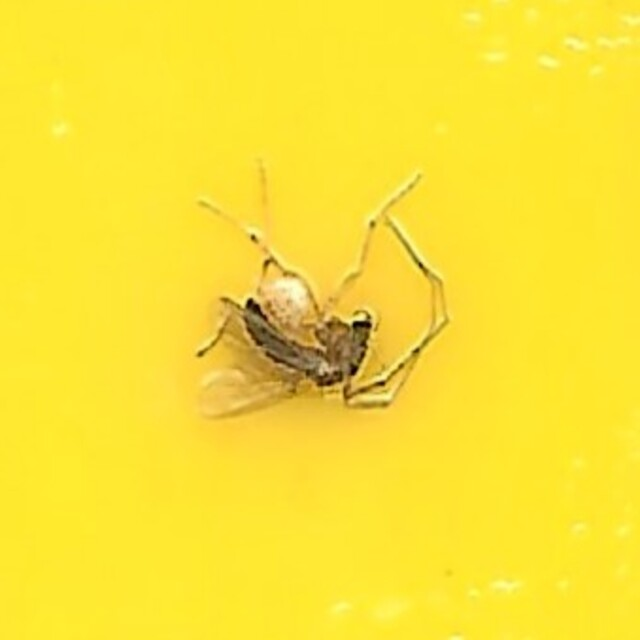Nematocera: (189, 210, 451, 430)
